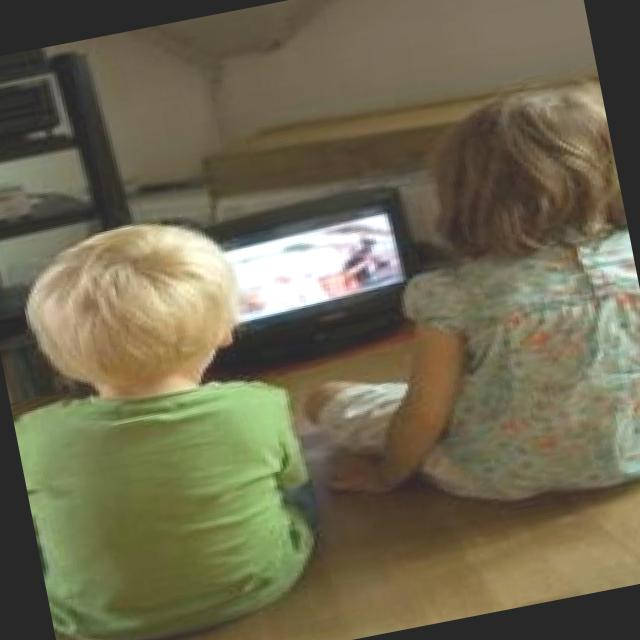no_vest: (301, 198, 640, 541), (8, 339, 346, 640)
